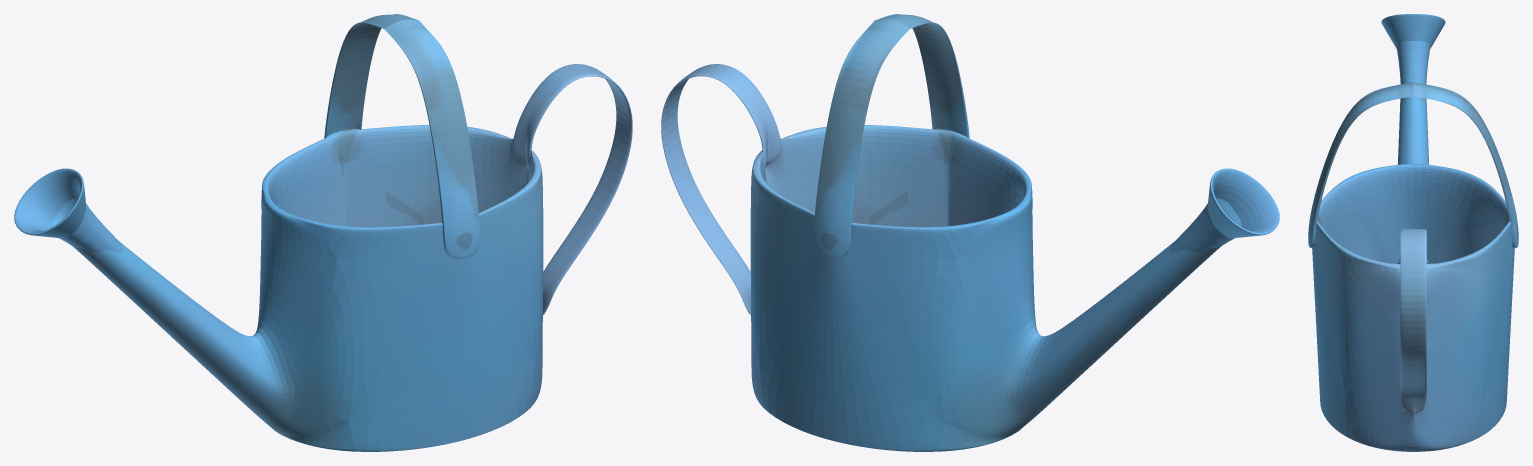
The model's file is Watering Can.fbx.
3 views of the same model, side by side, from view 1: azimuth 30°, elevation 25°; view 2: azimuth 150°, elevation 25°; view 3: azimuth 270°, elevation 25° (orthographic). The views are drawn at different scales.
Parts seen in each view (by area): view 1: Cylinder.002; view 2: Cylinder.002; view 3: Cylinder.002.
Part boxes in pixels (x1,y1,x2,y2): Cylinder.002: [14, 14, 632, 451]; Cylinder.002: [661, 14, 1279, 451]; Cylinder.002: [1308, 14, 1518, 451].
Bounding box in the file's own units: 561 × 338 × 203.
